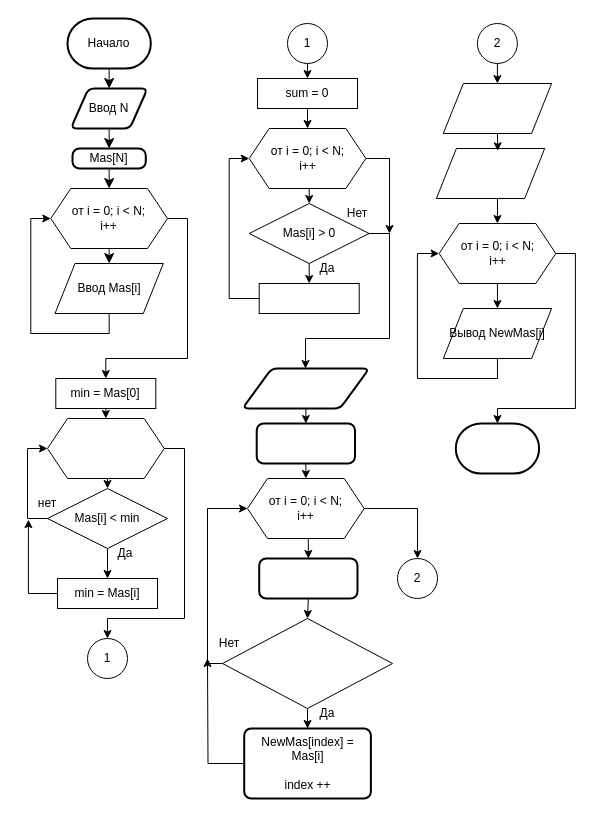
Some shapes in this 601 by 816 pixel diagram are drawn without their labels. The shapes that lost their labels are listed below. From the top down, each one's box as (x1, y1, x2, y2) in pixels, then its label:
(442, 82, 552, 134): Вывод min
(435, 148, 545, 198): Вывод sum
(258, 282, 359, 314): sum = sum + Mas[i]
(241, 367, 370, 409): Ввод A и B
(46, 418, 164, 478): от i = 1; i < N; i++
(255, 422, 356, 464): NewMas[N] index = 0
(454, 422, 540, 474): Конец
(258, 557, 358, 599): AbsV = Abs(Mas[i])
(222, 618, 392, 708): AbsV < a или AbsV > b
